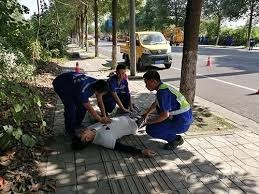falling: (72, 111, 159, 160)
